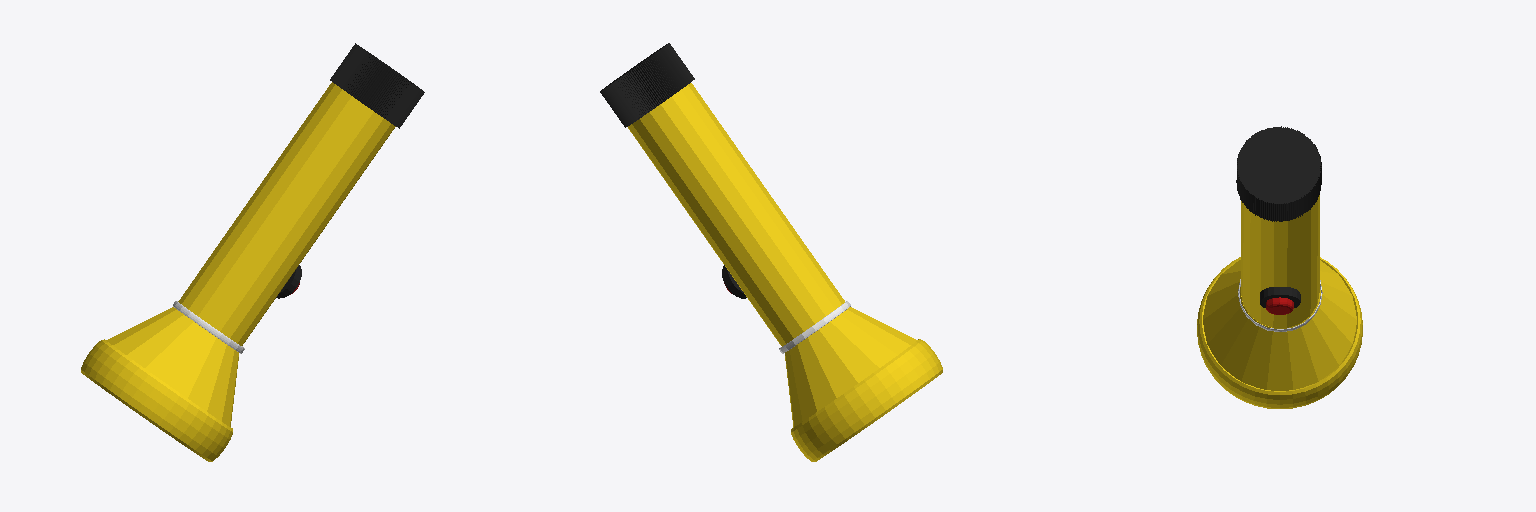
Rendered from flashlight.obj.
The picture shows the model from 3 angles: view 1: azimuth 30°, elevation 25°; view 2: azimuth 150°, elevation 25°; view 3: azimuth 270°, elevation 25°; orthographic projection.
Parts seen in each view (by area): view 1: Cylinder04, Torus01, Shape1, Torus02; view 2: Cylinder04, Torus01, Shape1, Torus02; view 3: Cylinder04, Shape1, Torus01, Cylinder02.
Boxes of the visible parts, box(x1,y1,x2,y2) form: Cylinder04: box(106, 82, 395, 426); Torus01: box(81, 339, 232, 461); Shape1: box(330, 43, 424, 128); Torus02: box(173, 301, 244, 353); Cylinder04: box(628, 83, 917, 427); Torus01: box(791, 339, 942, 461); Shape1: box(600, 43, 694, 127); Torus02: box(779, 301, 850, 353); Cylinder04: box(1203, 195, 1356, 390); Shape1: box(1236, 126, 1321, 221); Torus01: box(1197, 257, 1362, 408); Cylinder02: box(1260, 287, 1300, 307).
Bounding box in the file's own units: 32.86 × 35.3 × 14.68.